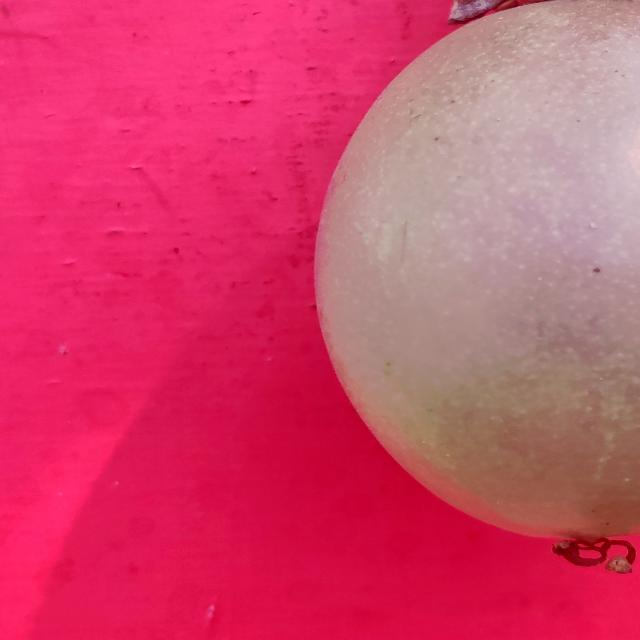Estado-3: (312, 0, 640, 578)
